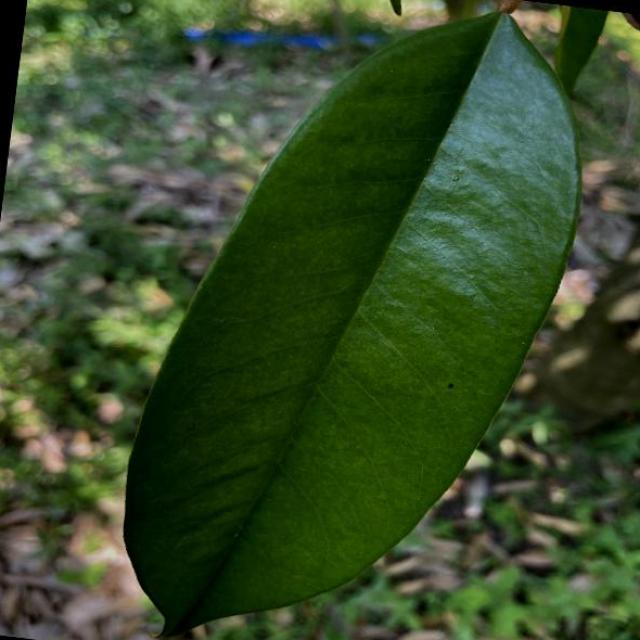No Disease: (95, 0, 618, 640)
